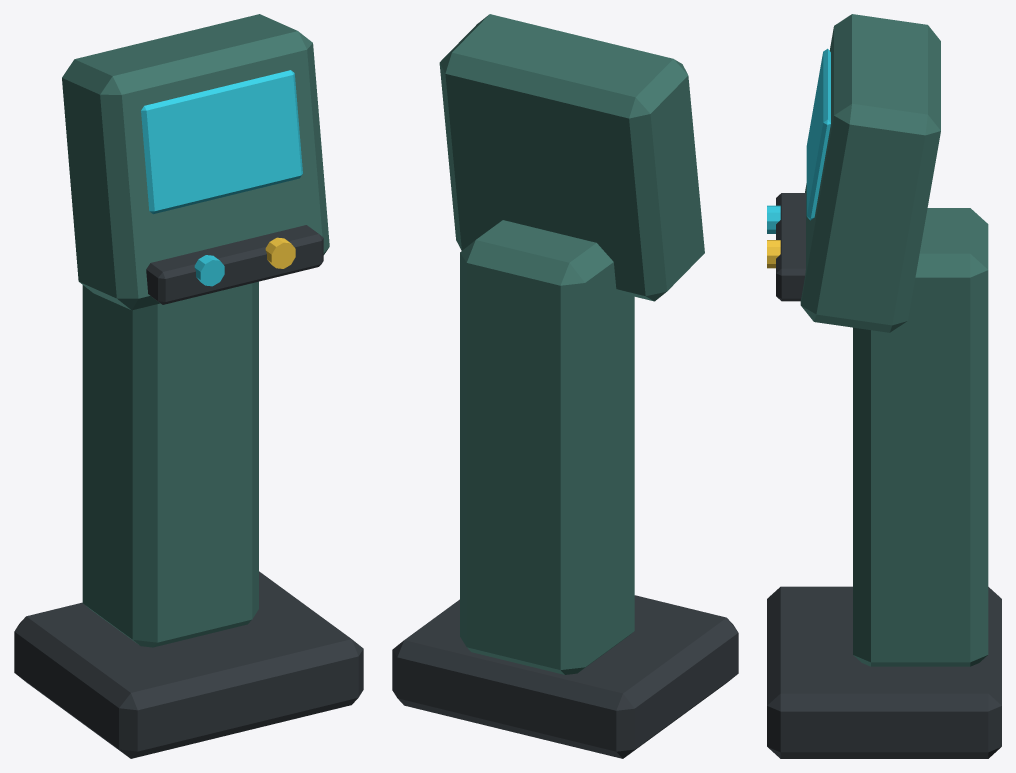
The model's file is RepairTerminal.glb.
3 renders of one model, left to right at view 1: azimuth 30°, elevation 25°; view 2: azimuth 150°, elevation 25°; view 3: azimuth 270°, elevation 25°, orthographic.
Visible parts, largest first — view 1: TerminalPedestal, TerminalHead, TerminalBase, TerminalScreen, TerminalControlShelf, TerminalButtonGreen, TerminalButtonYellow; view 2: TerminalPedestal, TerminalHead, TerminalBase; view 3: TerminalPedestal, TerminalHead, TerminalBase, TerminalControlShelf, TerminalScreen.
Part boxes in pixels (<box>): TerminalPedestal: <box>82,281,258,647</box>; TerminalHead: <box>62,14,329,310</box>; TerminalBase: <box>14,571,363,758</box>; TerminalScreen: <box>141,70,302,214</box>; TerminalControlShelf: <box>146,225,323,304</box>; TerminalButtonGreen: <box>194,255,224,286</box>; TerminalButtonYellow: <box>265,237,295,268</box>; TerminalPedestal: <box>460,220,634,674</box>; TerminalHead: <box>439,14,704,301</box>; TerminalBase: <box>392,595,738,758</box>; TerminalPedestal: <box>853,208,988,666</box>; TerminalHead: <box>800,14,940,332</box>; TerminalBase: <box>767,586,1001,758</box>; TerminalControlShelf: <box>776,193,805,301</box>; TerminalScreen: <box>806,48,830,220</box>.
Bounding box in the file's own units: 0.62 × 1.58 × 0.52.
